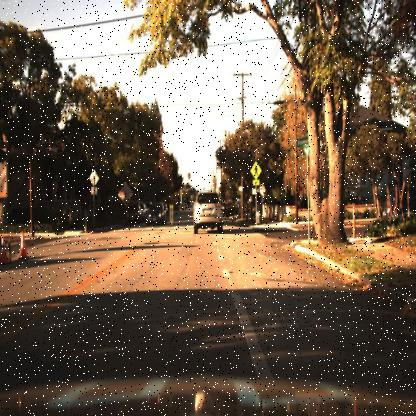car: (190, 187, 224, 235), (145, 200, 168, 231), (146, 201, 168, 226), (125, 202, 142, 226), (127, 201, 144, 224)
